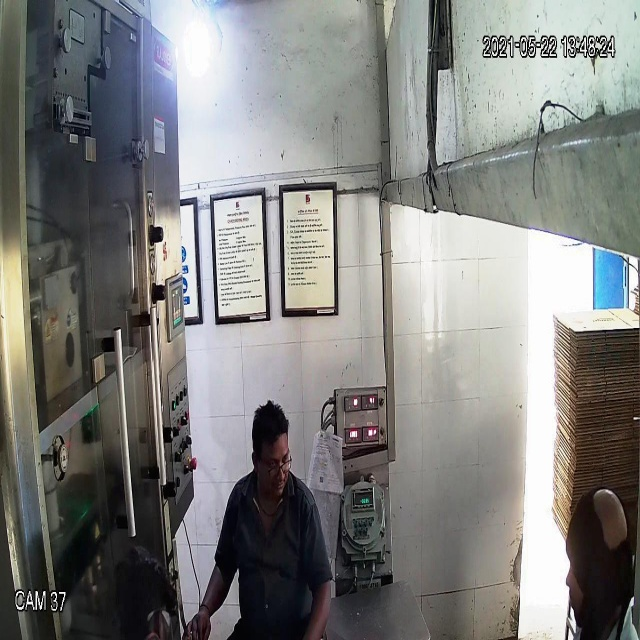Gafas: (250, 448, 294, 484)
